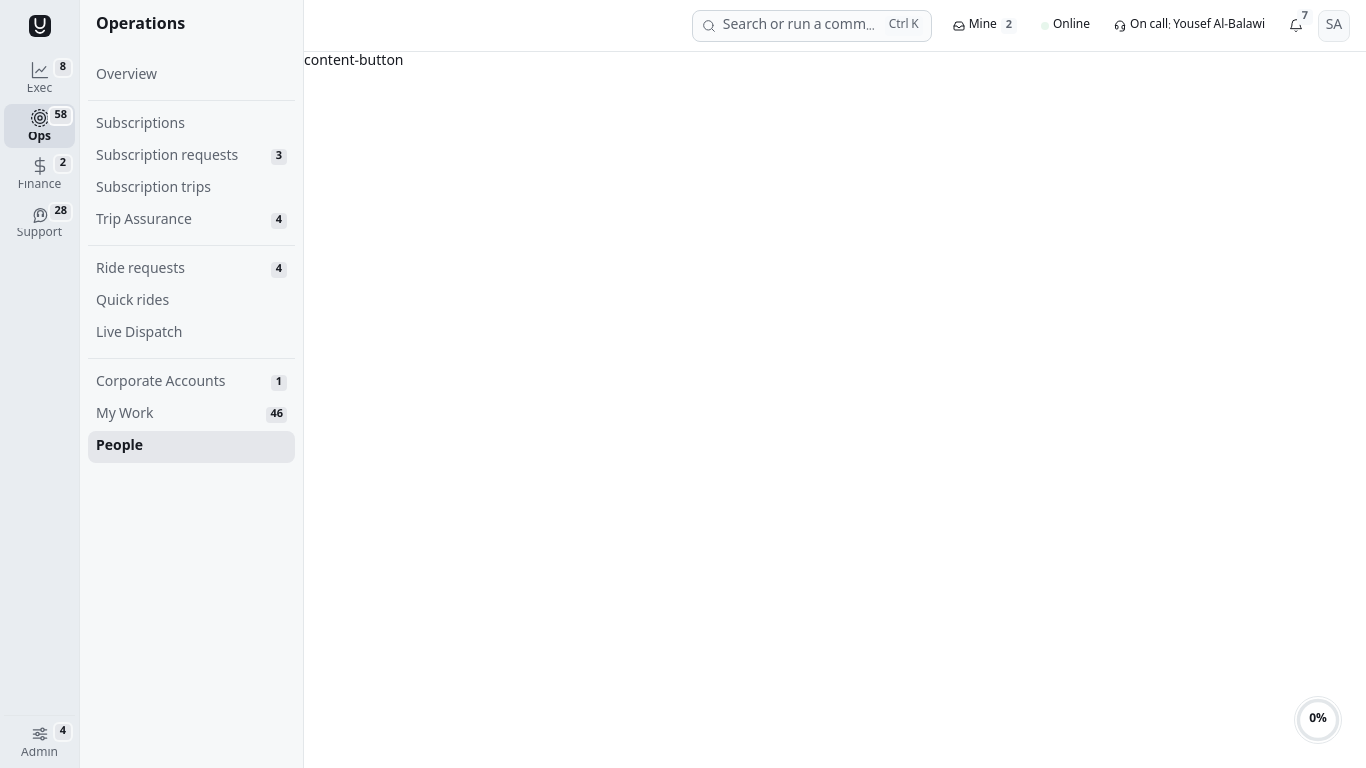
it: AC-66 — "Escape closes the open shell layer, any menu, any sheet and any modal, and returns focus to the control that opened it" › closes the notification popover on Escape and returns focus to the bell
The image size is (1366, 768).
Expected: the element showing "content-button" is shown, [304, 52, 404, 72]
Click the button named "Notifications" at (1296, 26), box [1280, 10, 1312, 42]
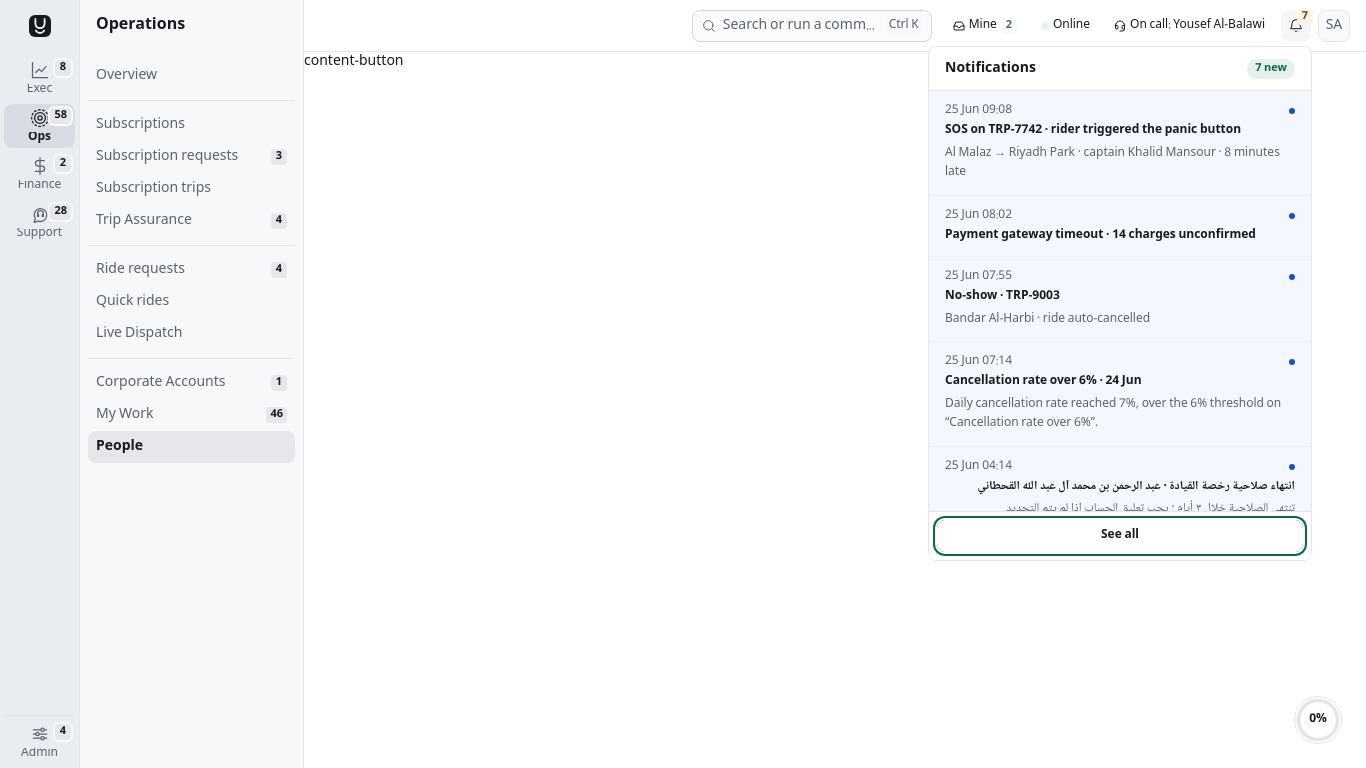
Expected: the heading "Notifications" is shown, [945, 58, 1036, 78]
Press Escape
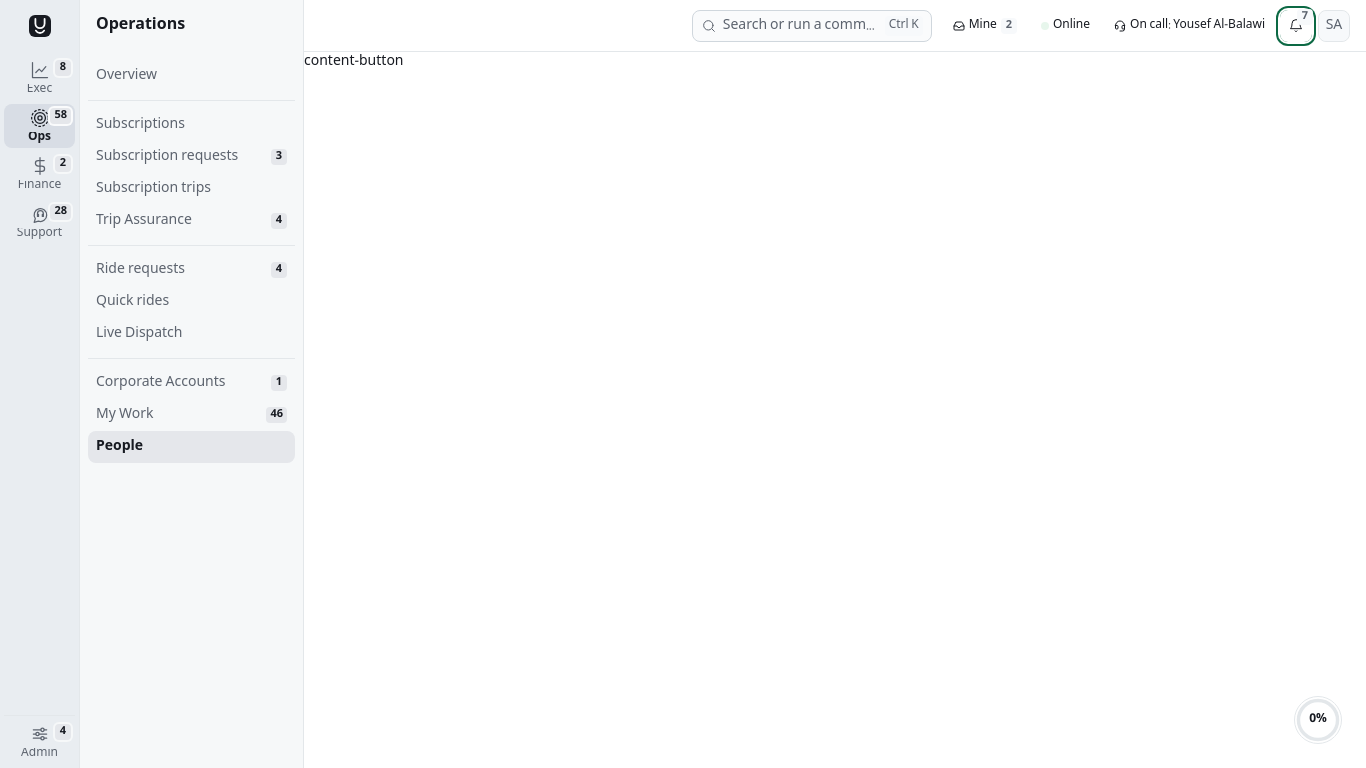
Expected: the heading "Notifications" is gone
